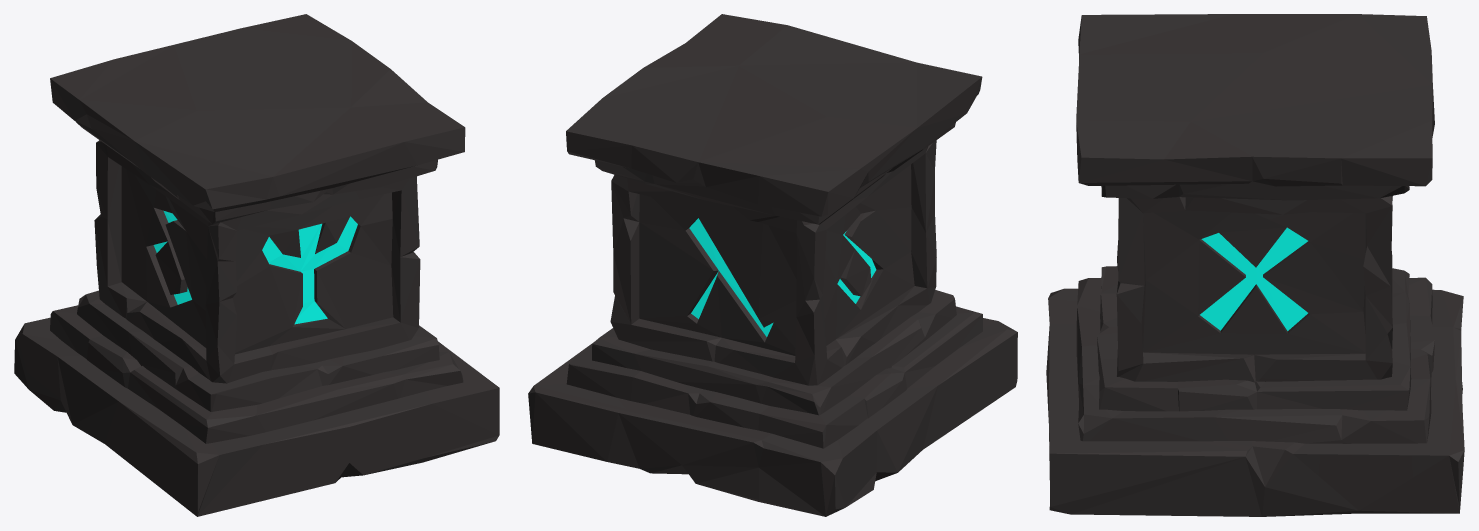
The model's file is Pedestal_01.glb.
3 renders of one model, left to right at view 1: azimuth 30°, elevation 25°; view 2: azimuth 150°, elevation 25°; view 3: azimuth 270°, elevation 25°, orthographic. The views are drawn at different scales.
Parts seen in each view (by area): view 1: Pedestal_01; view 2: Pedestal_01; view 3: Pedestal_01.
Part boxes in pixels (x1=…): Pedestal_01: x1=14, y1=14, x2=499, y2=516; Pedestal_01: x1=528, y1=14, x2=1017, y2=516; Pedestal_01: x1=1046, y1=14, x2=1464, y2=516.
Size of what is drawn, in the model's own units: 2.83 by 2.77 by 2.97.
Materials: 2 (2 with a texture image).
